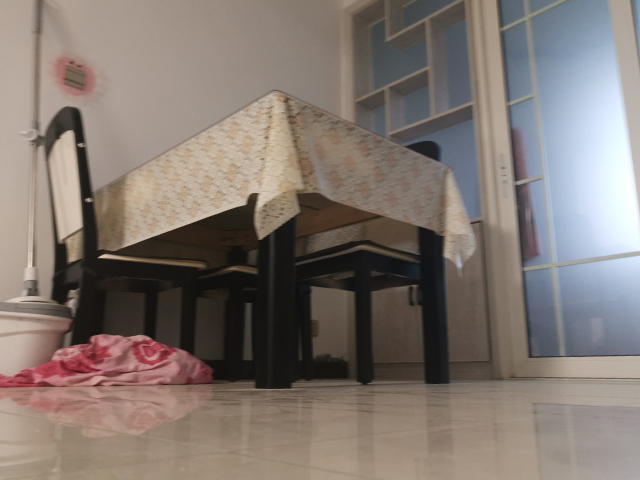stool: (41, 105, 208, 366), (295, 135, 444, 387)
table: (93, 87, 455, 392)
